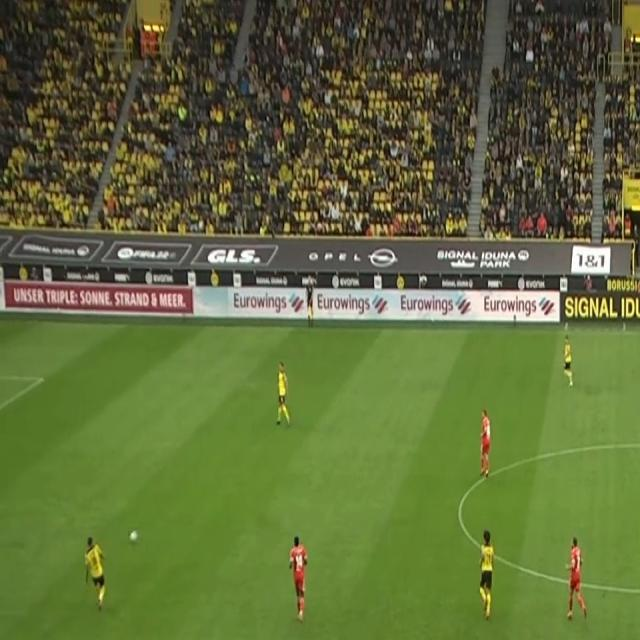ball: (127, 529, 139, 545)
